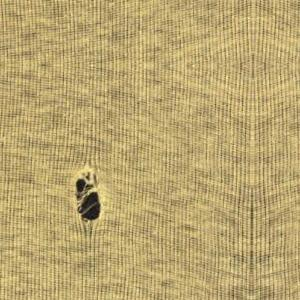hole: (70, 166, 105, 234)
